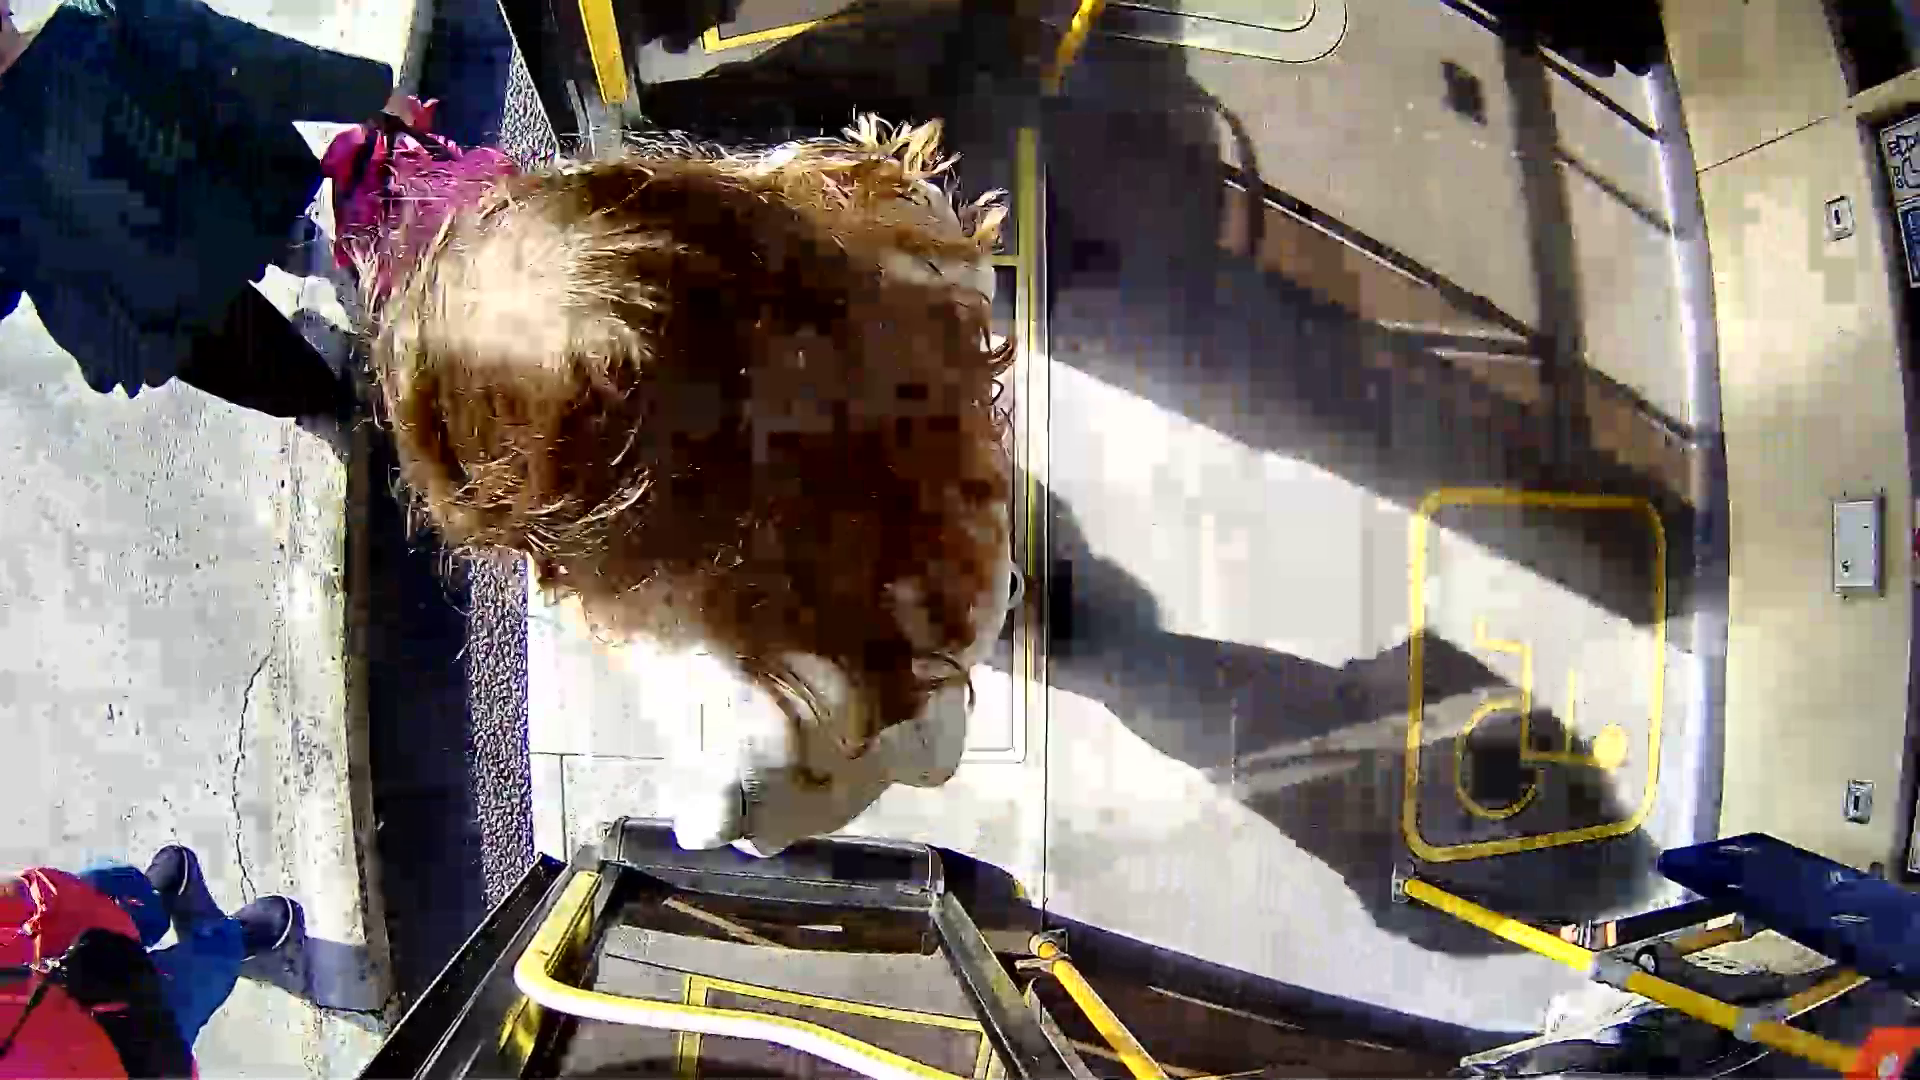person: (273, 91, 1230, 855)
